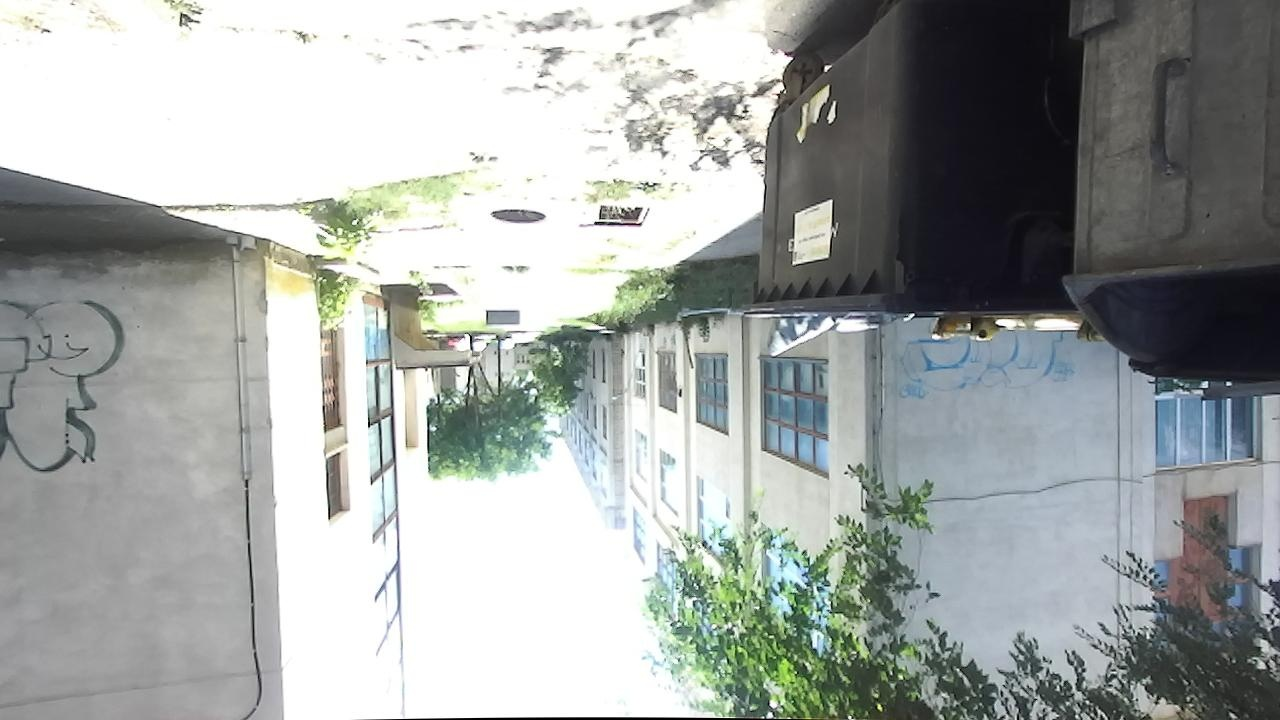drain: (589, 201, 650, 233), (487, 205, 550, 228)
